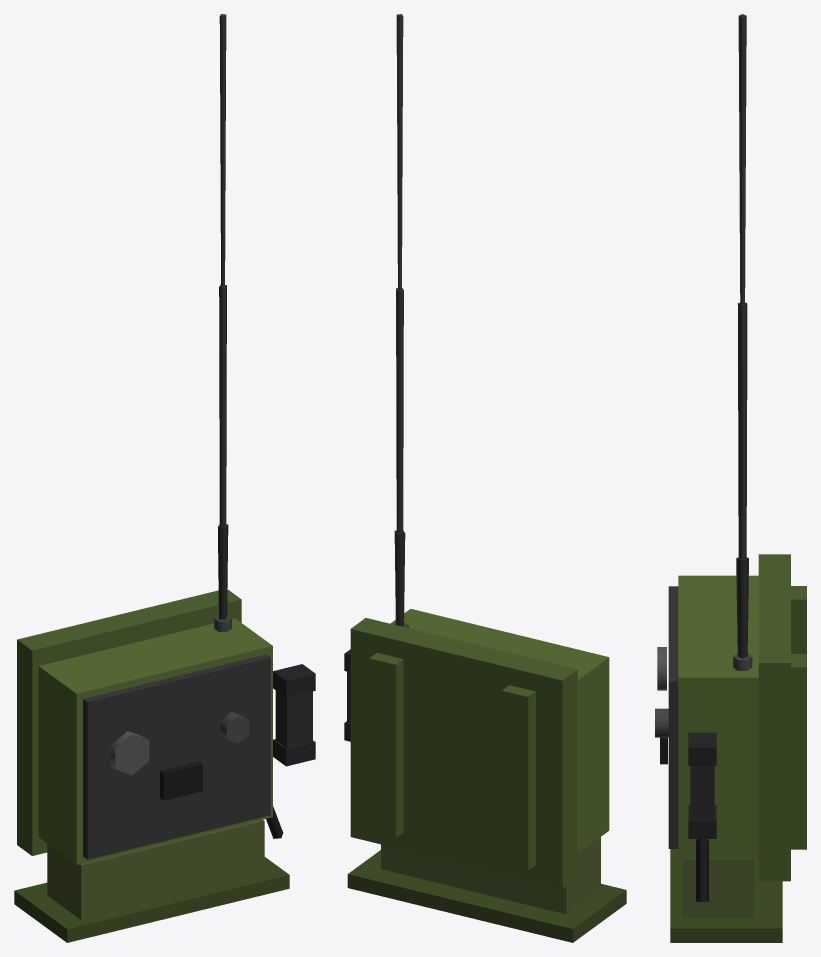
The model's file is radio-stack.glb.
3 views of the same model, side by side, from view 1: azimuth 30°, elevation 25°; view 2: azimuth 150°, elevation 25°; view 3: azimuth 270°, elevation 25° (orthographic). The views are drawn at different scales.
Parts seen in each view (by area): view 1: Mesh_RadioFace, Mesh_RadioBody, Mesh_BatteryBox, Mesh_PackFrame, Mesh_GroundPad, Mesh_Handset, Mesh_AntennaMid, Mesh_AntennaTip, Mesh_ChannelWindow, Mesh_FreqDial, Mesh_HandsetEar, Mesh_AntennaBase (+2 smaller); view 2: Mesh_PackFrame, Mesh_RadioBody, Mesh_GroundPad, Mesh_BatteryBox, Mesh_StrapRight, Mesh_StrapLeft, Mesh_AntennaMid, Mesh_AntennaTip, Mesh_AntennaBase; view 3: Mesh_RadioBody, Mesh_PackFrame, Mesh_GroundPad, Mesh_BatteryBox, Mesh_StrapRight, Mesh_RadioFace, Mesh_AntennaMid, Mesh_AntennaTip, Mesh_Handset, Mesh_AntennaBase, Mesh_StrapLeft, Mesh_HandsetEar (+4 smaller).
Boxes of the visible parts, x1,y1,x2,y2 form: Mesh_RadioFace: (83,654,270,859); Mesh_RadioBody: (38,618,272,864); Mesh_BatteryBox: (47,819,264,920); Mesh_PackFrame: (17,589,241,855); Mesh_GroundPad: (14,857,289,942); Mesh_Handset: (275,690,312,747); Mesh_AntennaMid: (219,284,226,526); Mesh_AntennaTip: (219,14,226,286); Mesh_ChannelWindow: (160,761,202,800); Mesh_FreqDial: (110,731,149,775); Mesh_HandsetEar: (273,664,315,697); Mesh_AntennaBase: (218,524,228,619); Mesh_PackFrame: (350,618,577,888); Mesh_RadioBody: (390,609,609,853); Mesh_GroundPad: (347,850,626,942); Mesh_BatteryBox: (381,837,600,914); Mesh_StrapRight: (369,653,403,837); Mesh_StrapLeft: (502,685,535,870); Mesh_AntennaMid: (396,288,403,533); Mesh_AntennaTip: (396,14,403,289); Mesh_AntennaBase: (394,530,405,626); Mesh_RadioBody: (678,575,758,859); Mesh_PackFrame: (758,554,790,881); Mesh_GroundPad: (670,849,782,942); Mesh_BatteryBox: (682,859,754,918); Mesh_StrapRight: (791,654,806,849); Mesh_RadioFace: (668,586,678,848); Mesh_AntennaMid: (737,302,747,559); Mesh_AntennaTip: (738,14,746,304); Mesh_Handset: (690,766,714,819); Mesh_AntennaBase: (736,557,748,658); Mesh_StrapLeft: (791,586,806,653); Mesh_HandsetEar: (688,732,716,765).
Size of the model in its own units: 0.3925 by 1.25 by 0.189.
